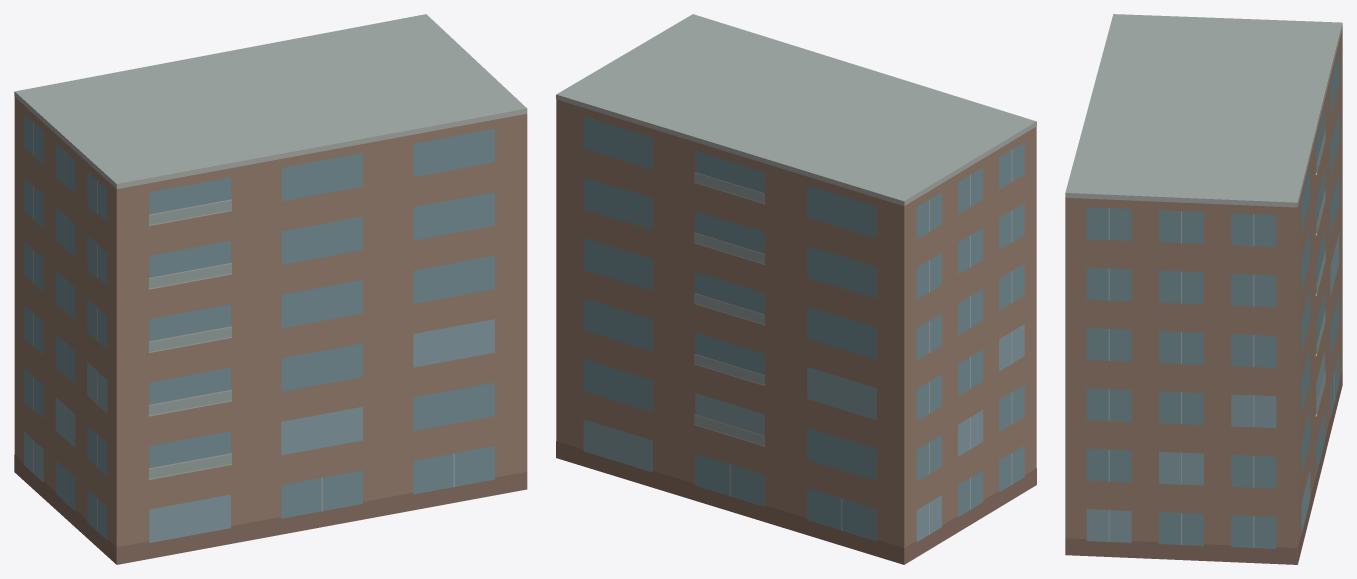
Rendered from survey-upis-33029175.glb.
The picture shows the model from 3 angles, left to right: view 1: azimuth 30°, elevation 25°; view 2: azimuth 150°, elevation 25°; view 3: azimuth 270°, elevation 25°; orthographic projection. The views are drawn at different scales.
Visible parts, largest first — view 1: survey-upis-33029175.tmp; view 2: survey-upis-33029175.tmp; view 3: survey-upis-33029175.tmp.
Boxes of the visible parts, bbox=[...] form: survey-upis-33029175.tmp: bbox=[14, 14, 527, 564]; survey-upis-33029175.tmp: bbox=[556, 14, 1036, 564]; survey-upis-33029175.tmp: bbox=[1065, 14, 1342, 564].
Size of the model in its own units: 20.45 by 18.3 by 12.71.
